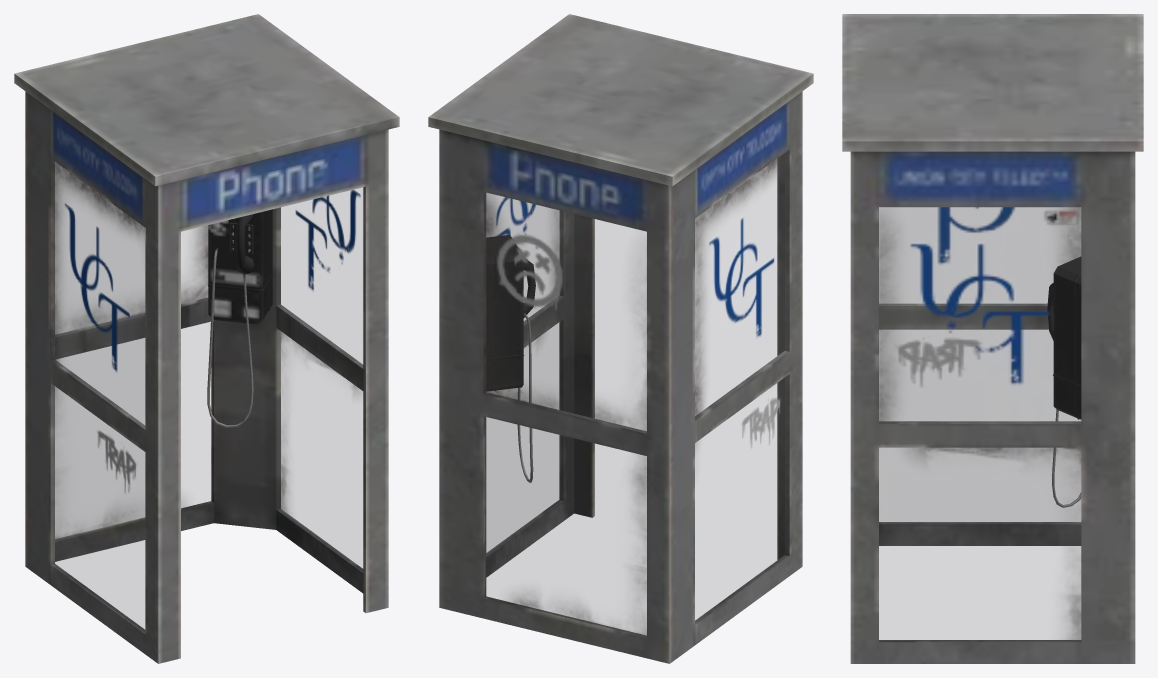
Rendered from payphone-booth.lod0.glb.
3 renders of one model, left to right at view 1: azimuth 30°, elevation 25°; view 2: azimuth 150°, elevation 25°; view 3: azimuth 270°, elevation 25°, orthographic. The views are drawn at different scales.
Parts seen in each view (by area): view 1: defaultMaterial (×2); view 2: defaultMaterial (×2); view 3: defaultMaterial (×2).
Part boxes in pixels (<box>): defaultMaterial (×2): <box>14,14,399,663</box>; defaultMaterial (×2): <box>428,14,813,663</box>; defaultMaterial (×2): <box>842,14,1143,663</box>.
Bounding box in the file's own units: 1.2 × 2.3 × 1.2.
2 materials, 2 textured.
